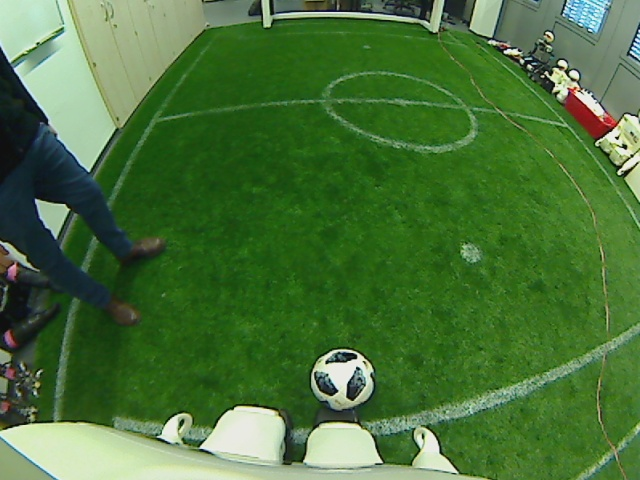ball: (308, 345, 376, 411)
